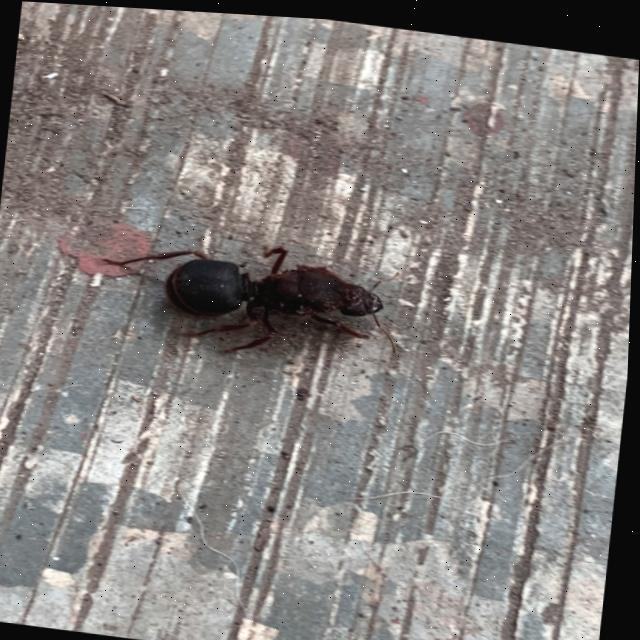Alive-Female-Dealate: (95, 221, 408, 371)
